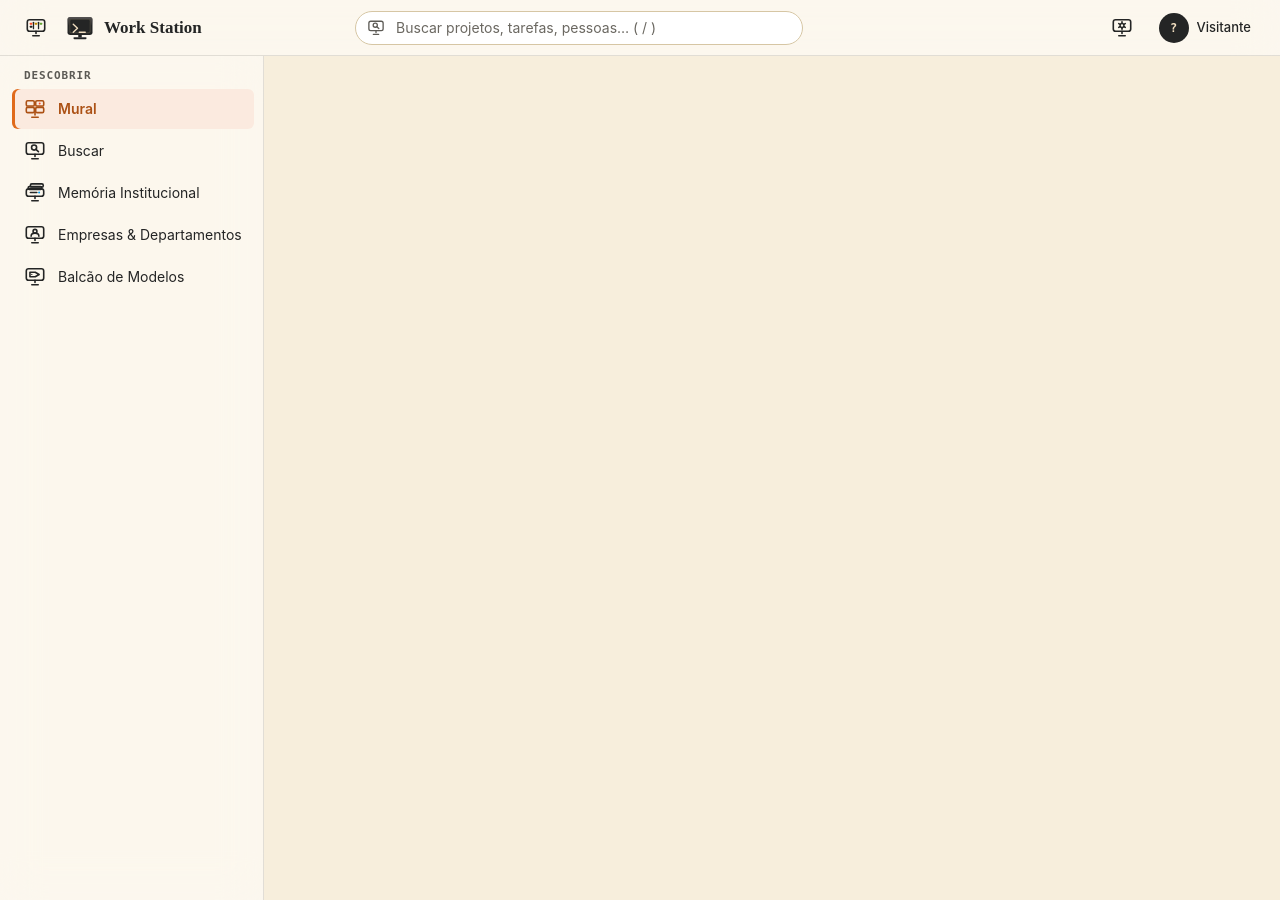
Test: AppShell › tema e idioma pelo menu da barra superior aplicam no <html> e traduzem o shell
Click the button with test id "theme-menu".
click(1122, 28)  # box left=1102, top=8, right=1142, bottom=48
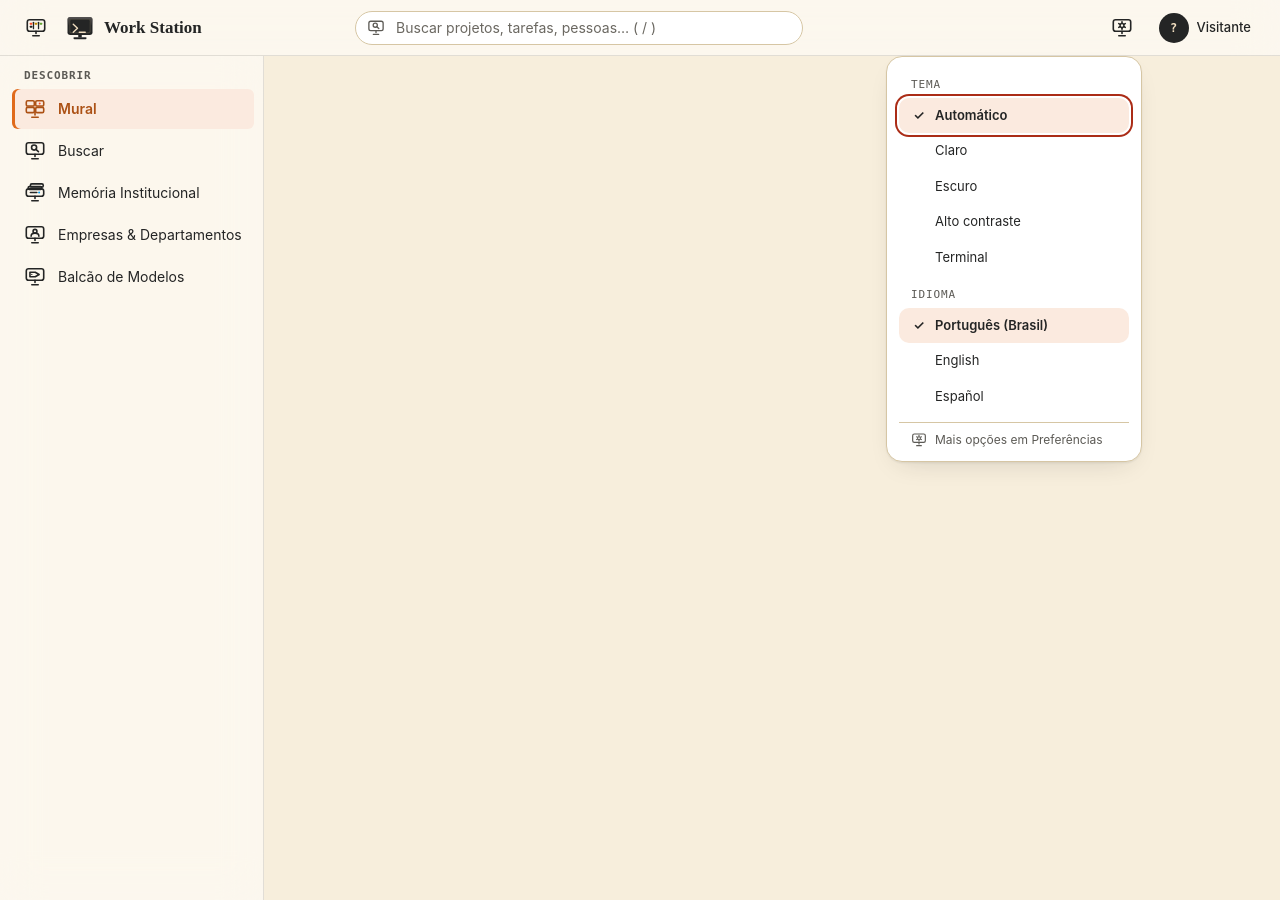
Click the menu item "Terminal".
click(1014, 257)  # box left=899, top=240, right=1129, bottom=275
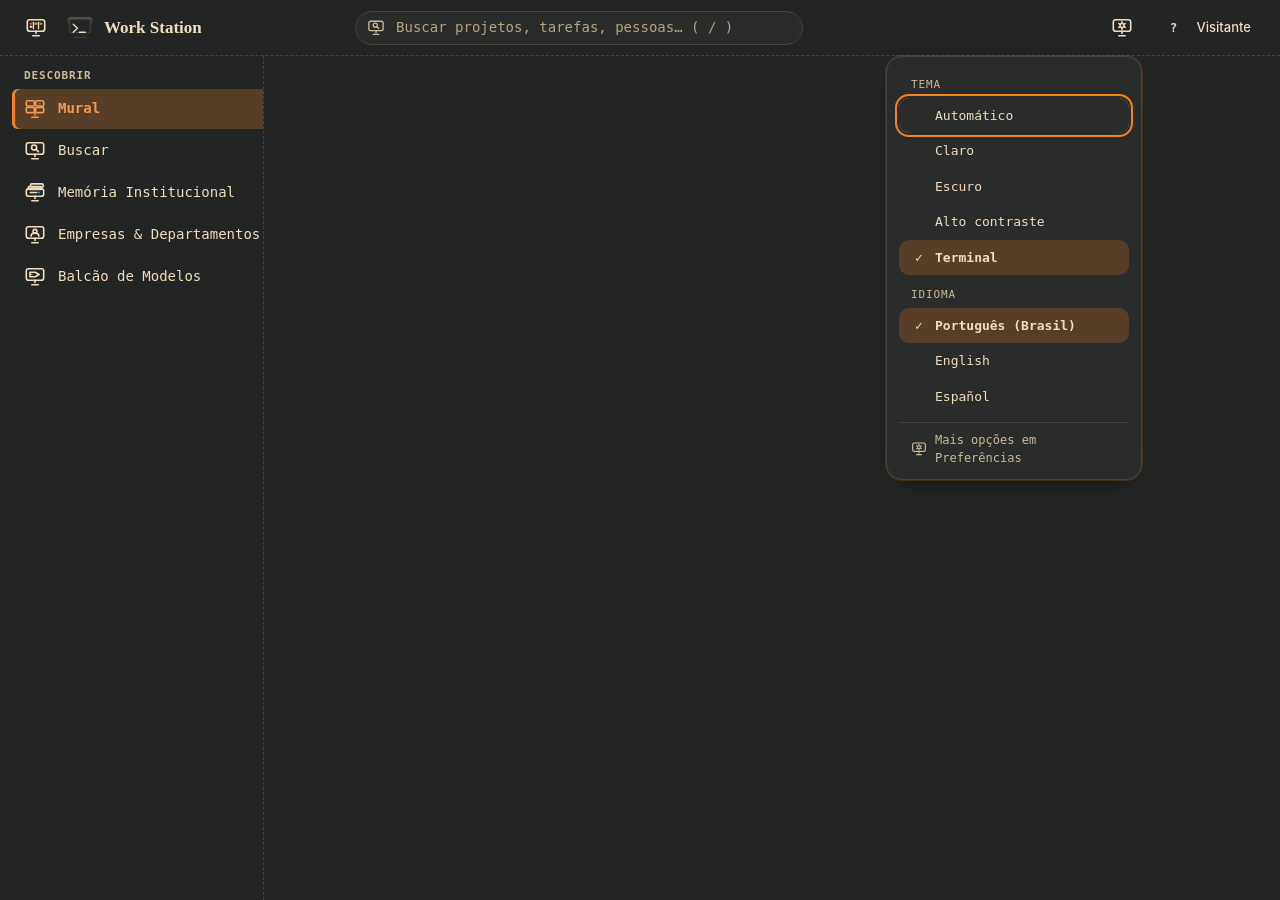
Click the menu item "English".
click(1014, 361)  # box left=899, top=343, right=1129, bottom=378
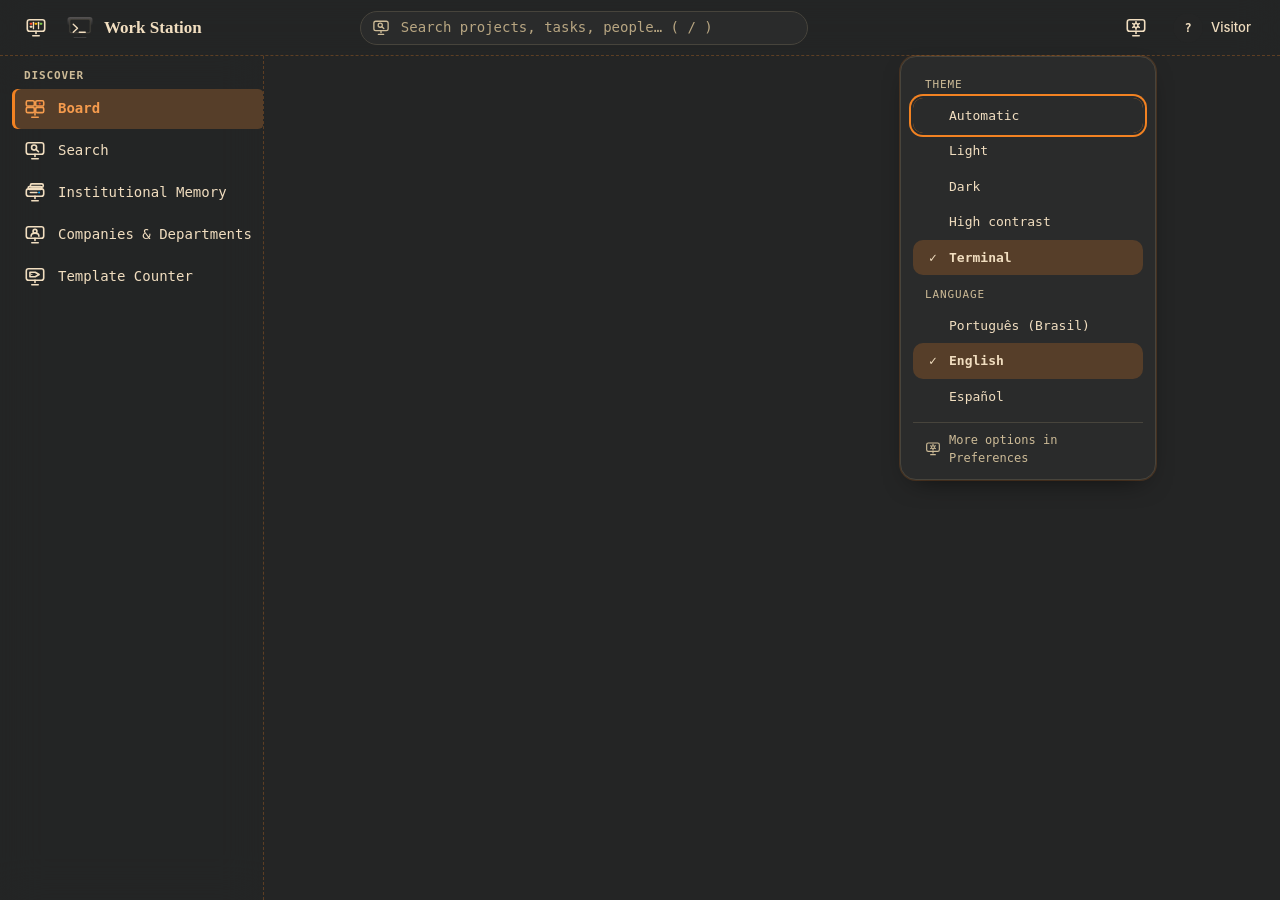
Expected: the navigation bar named "Main menu" is shown, left=0, top=56, right=264, bottom=899
